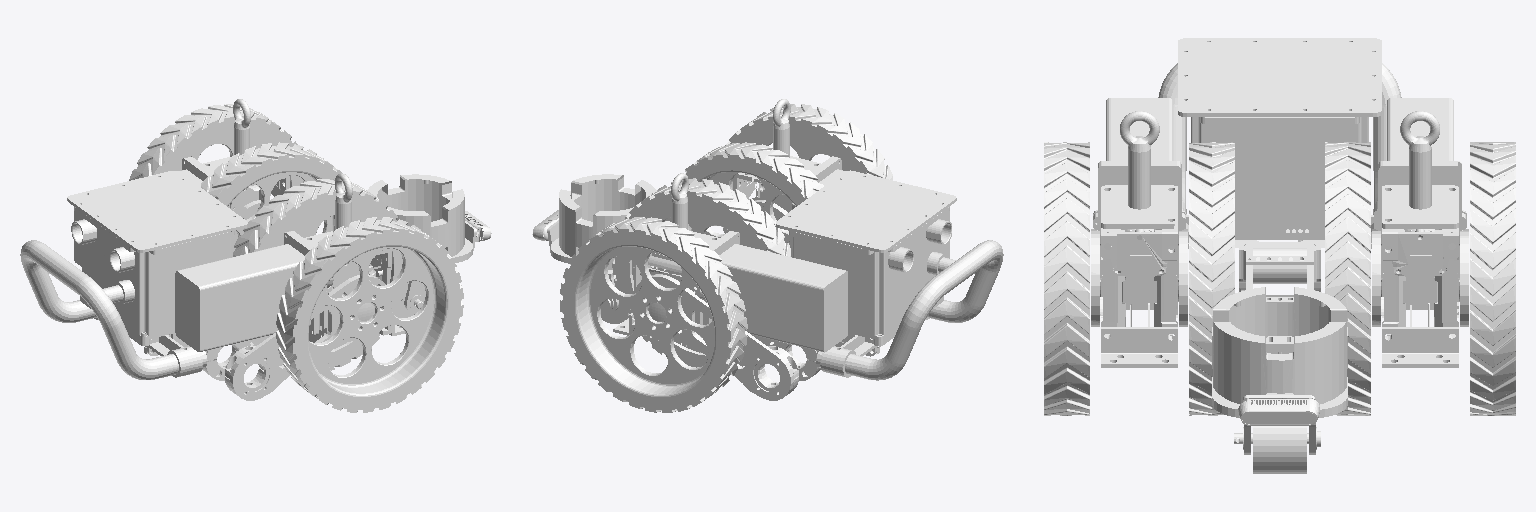
The robot description file, URDF, robot "car":
<?xml version="1.0" encoding="utf-8"?>
<!-- This URDF was automatically created by SolidWorks to URDF Exporter! Originally created by [author] ([email redacted]) 
     Commit Version: 1.6.0-4-g7f85cfe  Build Version: 1.6.7995.38578
     For more information, please see http://wiki.ros.org/sw_urdf_exporter -->
<robot
  name="car">
  <link
    name="base_link">
    <!-- <inertial>
      <origin
        xyz="-0.126642014768967 1.84182413764944E-08 0.0121789927693663"
        rpy="0 0 0" />
      <mass
        value="0.0926673491878992" />
      <inertia
        ixx="1.53222325318173E-05"
        ixy="-1.90046744077983E-11"
        ixz="-1.00491553078177E-18"
        iyy="0.000102600033510016"
        iyz="1.20294264204574E-20"
        izz="0.000111817073657985" />
    </inertial> -->
    <visual>
      <origin
        xyz="0 0 0"
        rpy="0 0 0" />
      <geometry>
        <mesh
          filename="package://robot_simulation/meshes_car/base_link.STL" />
      </geometry>
      <material
        name="">
        <color
          rgba="1 1 1 1" />
      </material>
    </visual>
    <collision>
      <origin
        xyz="0 0 0"
        rpy="0 0 0" />
      <geometry>
        <mesh
          filename="package://robot_simulation/meshes_car/base_link.STL" />
      </geometry>
    </collision>
  </link>
  <link
    name="Link_left">
    <inertial>
      <origin
        xyz="-1.11022302462516E-16 -3.33066907387547E-16 -1.59594559789866E-16"
        rpy="0 0 0" />
      <mass
        value="2.8831968742214" />
      <inertia
        ixx="0.0245109625268867"
        ixy="1.19711687878464E-13"
        ixz="-7.56573319189726E-14"
        iyy="0.0478895372962598"
        iyz="3.93607883259683E-14"
        izz="0.0245109625270905" />
    </inertial>
    <visual>
      <origin
        xyz="0 0 0"
        rpy="0 0 0" />
      <geometry>
        <mesh
          filename="package://robot_simulation/meshes_car/Link_left.STL" />
      </geometry>
      <material
        name="">
        <color
          rgba="1 1 1 1" />
      </material>
    </visual>
    <collision>
      <origin
        xyz="0 0 0"
        rpy="0 0 0" />
      <geometry>
        <mesh
          filename="package://robot_simulation/meshes_car/Link_left.STL" />
      </geometry>
    </collision>
  </link>
  <joint
    name="joint_left"
    type="continuous">
    <origin
      xyz="-0.0669999999999876 0.154000018418243 0.0979999999999812"
      rpy="0 0 0" />
    <parent
      link="base_link" />
    <child
      link="Link_left" />
    <axis
      xyz="0 -1 0" />
  </joint>
<!-- 轮子的控制器 -->
  <transmission name="left_wheel_trans">
    <type>transmission_interface/SimpleTransmission</type>
    <joint name="joint_left">
      <hardwareInterface>VelocityJointInterface</hardwareInterface>
    </joint>
    <actuator name="left_motor">
      <hardwareInterface>VelocityJointInterface</hardwareInterface>
      <mechanicalReduction>1</mechanicalReduction>
    </actuator>
  </transmission>

  <link
    name="Link_right">
    <inertial>
      <origin
        xyz="9.0205620750794E-17 0 2.08166817117217E-16"
        rpy="0 0 0" />
      <mass
        value="2.88319687422141" />
      <inertia
        ixx="0.0245109625270528"
        ixy="-5.74148898919179E-14"
        ixz="2.08049465003714E-14"
        iyy="0.0478895372962598"
        iyz="3.62741222392676E-13"
        izz="0.0245109625269244" />
    </inertial>
    <visual>
      <origin
        xyz="0 0 0"
        rpy="0 0 0" />
      <geometry>
        <mesh
          filename="package://robot_simulation/meshes_car/Link_right.STL" />
      </geometry>
      <material
        name="">
        <color
          rgba="1 1 1 1" />
      </material>
    </visual>
    <collision>
      <origin
        xyz="0 0 0"
        rpy="0 0 0" />
      <geometry>
        <mesh
          filename="package://robot_simulation/meshes_car/Link_right.STL" />
      </geometry>
    </collision>
  </link>
  <joint
    name="joint_right"
    type="continuous">
    <origin
      xyz="-0.0669999999999876 -0.153999981581759 0.0979999999999842"
      rpy="0 0 0" />
    <parent
      link="base_link" />
    <child
      link="Link_right" />
    <axis
      xyz="0 -1 0" />
  </joint>
<!-- 右轮控制器 -->
  <transmission name="right_wheel_trans">
    <type>transmission_interface/SimpleTransmission</type>
    <joint name="joint_right">
      <hardwareInterface>VelocityJointInterface</hardwareInterface>
    </joint>
    <actuator name="right_motor">
      <hardwareInterface>VelocityJointInterface</hardwareInterface>
      <mechanicalReduction>1</mechanicalReduction>
    </actuator>
  </transmission>

</robot>

--- Facts derived from the render (not from the file) ---
Views: 3 orthographic renders of the robot side by side, from view 1: azimuth 30°, elevation 25°; view 2: azimuth 150°, elevation 25°; view 3: azimuth 270°, elevation 25°.
Model car with 3 links and 2 joints (2 continuous), rooted at base_link, posed every joint at zero.
Visible links, largest first — view 1: base_link, Link_right, Link_left; view 2: base_link, Link_left, Link_right; view 3: base_link, Link_left, Link_right.
Link boxes in pixels (left/top/right/bottom): base_link: left=20, top=99, right=491, bottom=400; Link_right: left=233, top=179, right=463, bottom=412; Link_left: left=129, top=104, right=341, bottom=245; base_link: left=532, top=99, right=1003, bottom=400; Link_left: left=560, top=178, right=790, bottom=412; Link_right: left=664, top=104, right=892, bottom=242; base_link: left=1091, top=38, right=1468, bottom=473; Link_left: left=1325, top=142, right=1515, bottom=415; Link_right: left=1044, top=142, right=1234, bottom=415.
Bounding box of the posed robot: 0.7433 × 0.517 × 0.3531 m (x, y, z).
3 mesh visuals loaded from 3 distinct referenced files (3 binary STL).
